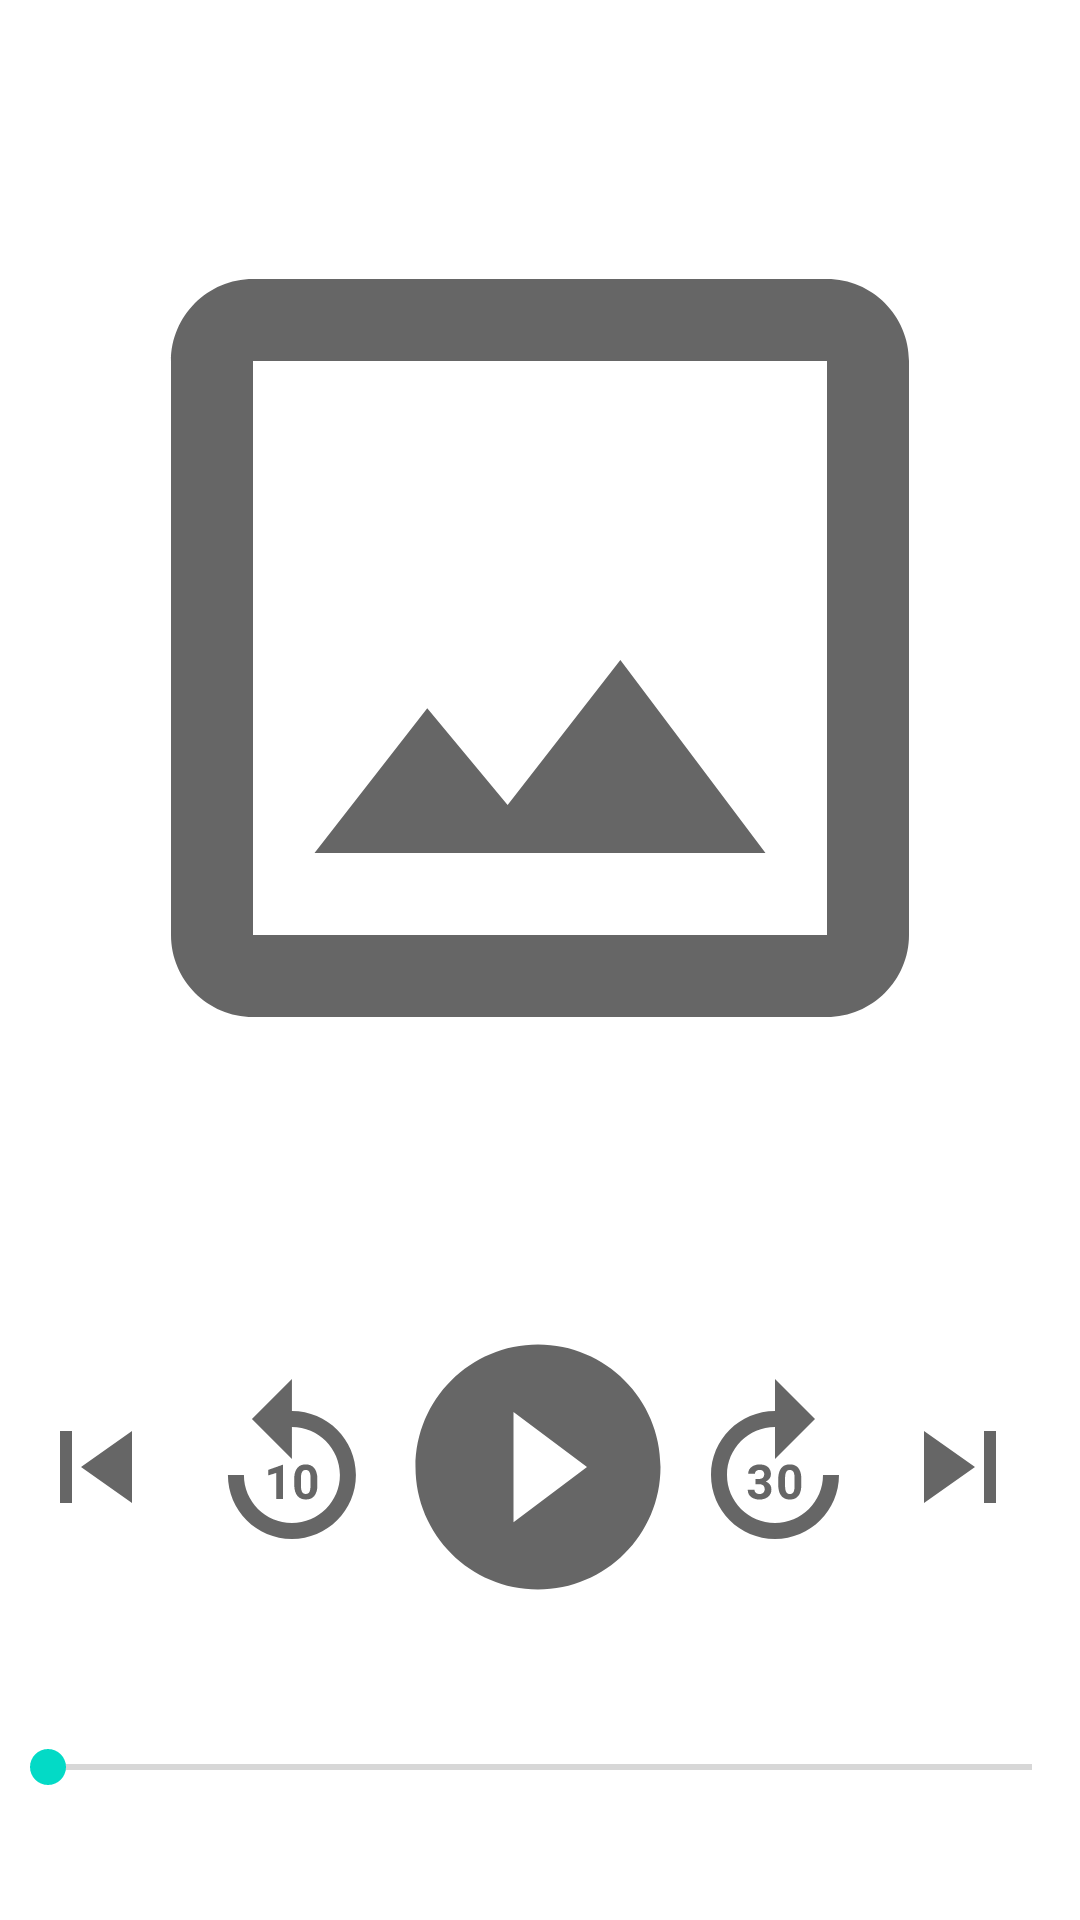

Screen size 1080x1920. Icon name, then its box in pixels as [x1=x1, y1=y1, x2=x2, y2=y2]:
forward: [x1=711, y1=1379, x2=839, y2=1539]
play circle: [x1=415, y1=1344, x2=661, y2=1590]
replay: [x1=228, y1=1379, x2=356, y2=1539]
skip next: [x1=924, y1=1431, x2=996, y2=1503]
skip previous: [x1=60, y1=1431, x2=132, y2=1503]
